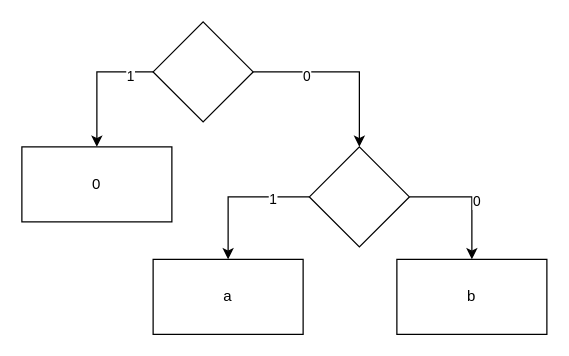
Image size: 569x356. Some labels were removed from this diagram. The centre of each missing label's shape, as x and y in pixels:
"a == b ?" goes at point 202,71.
"a > b ?" goes at point 358,196.
